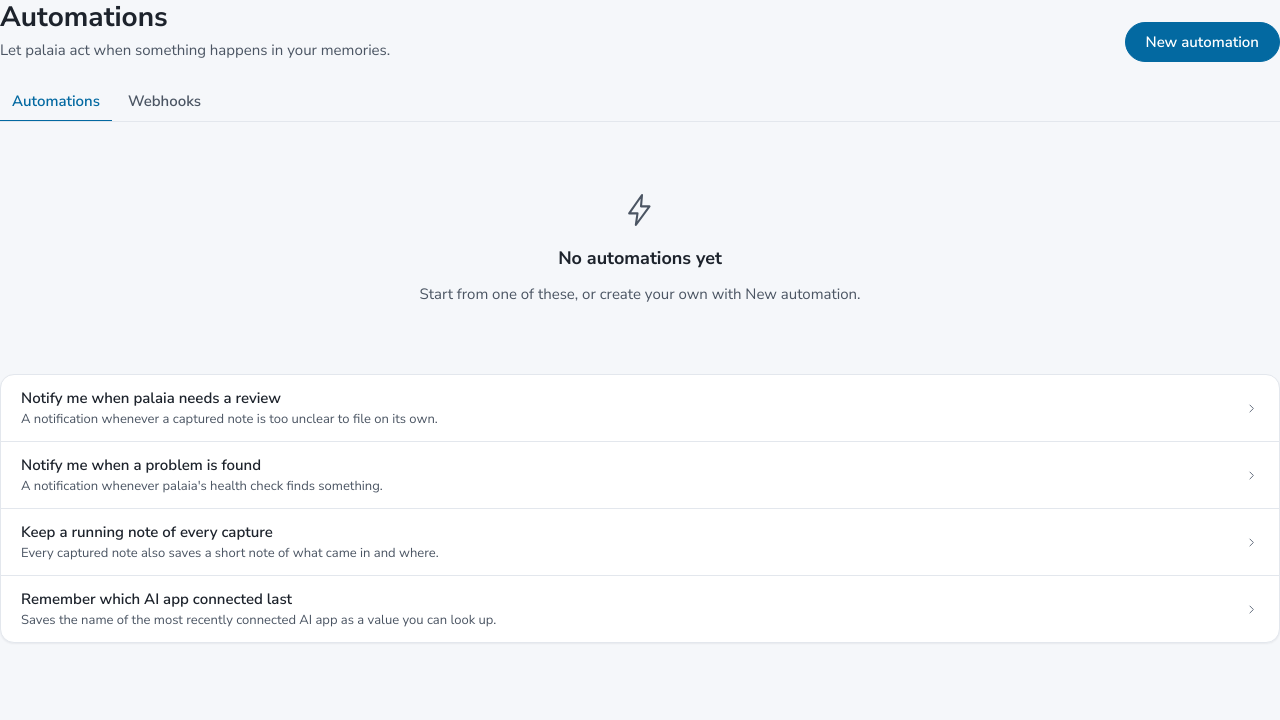
Scenario: Automations (SPEC-307, issue 570) › has one primary action, and creates an automation through the dialog
Expected: the heading "No automations yet" is shown, [558,246,722,270]
Click the button "New automation".
click(1202, 42)  # box [1124,22,1279,62]
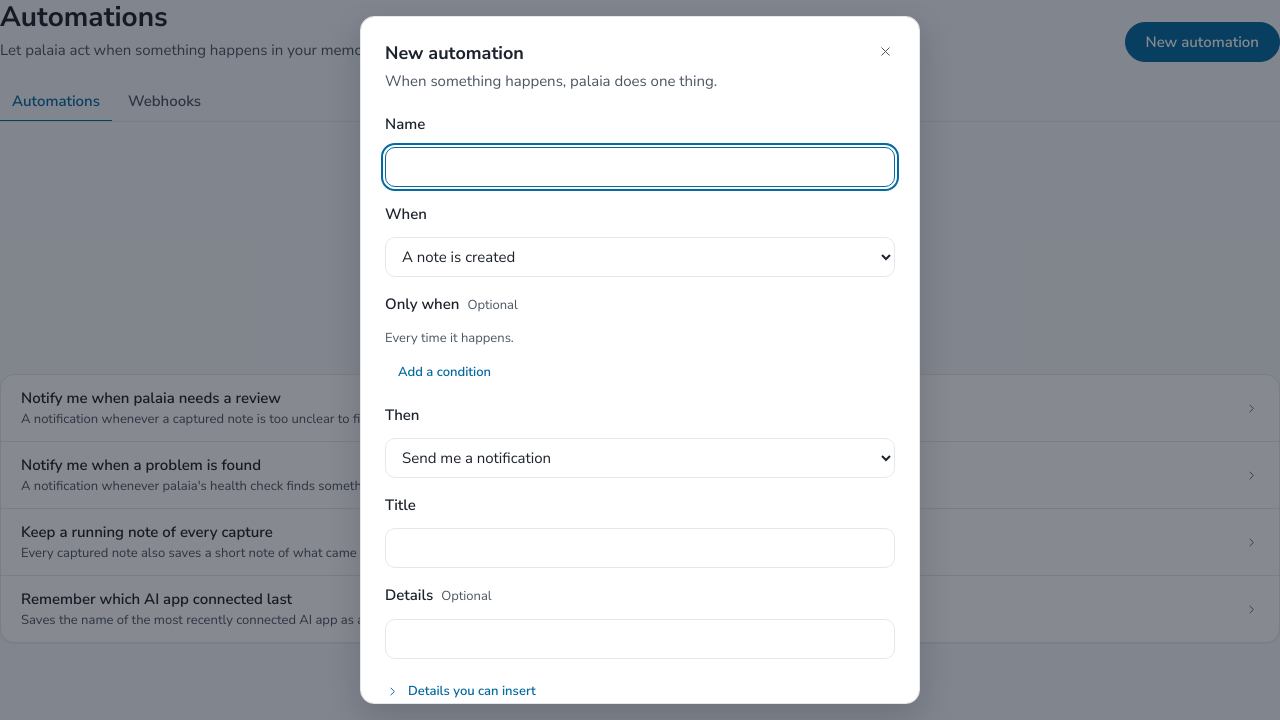
Type "notify me" into the field labelled "Name".
click(640, 167); type("notify me")  # box [385,147,895,187]
(page scrolled)
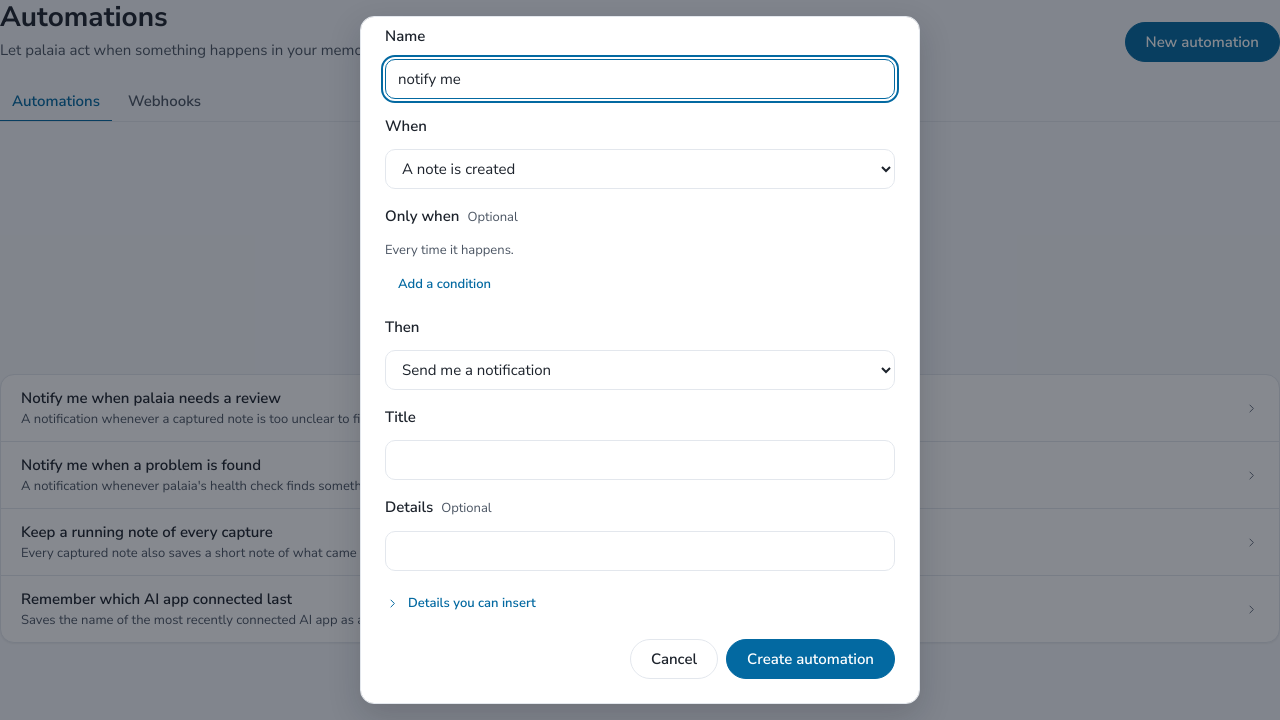
Click the button "Create automation".
click(811, 659)  # box [726,639,895,679]
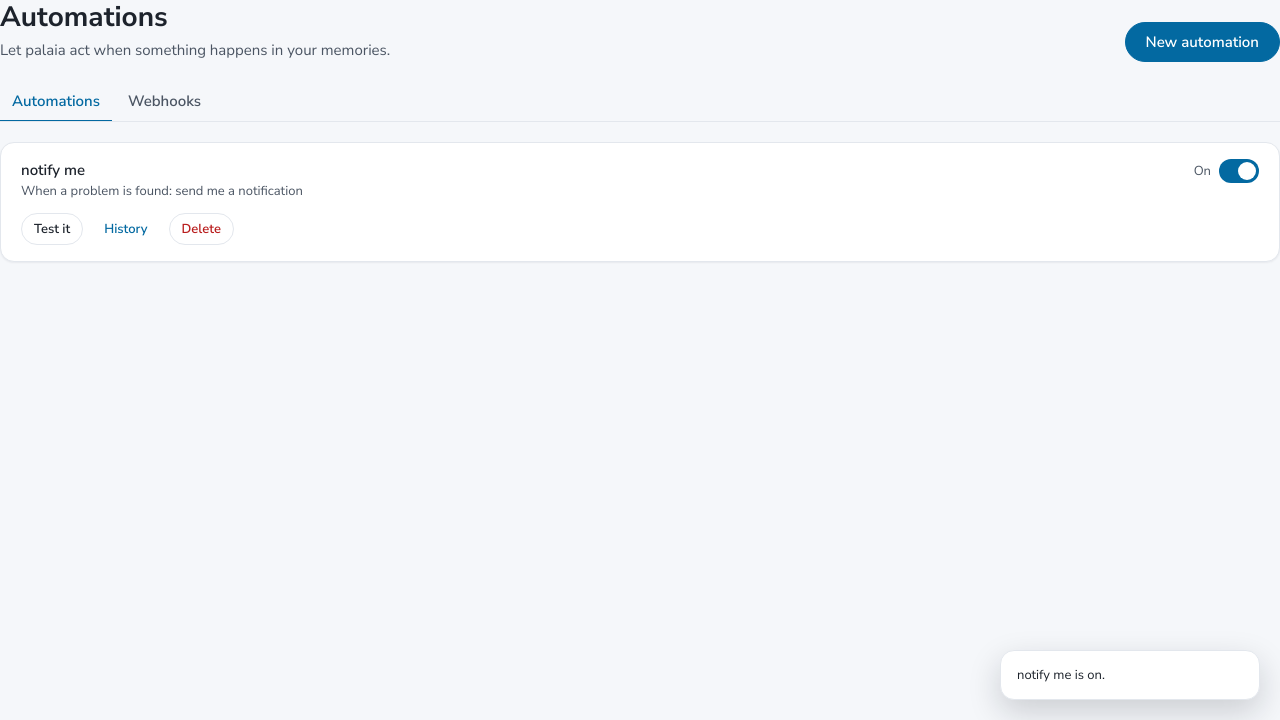
Expected: the text "notify me" is shown, [21,160,85,180]
Now the dialog is gone
